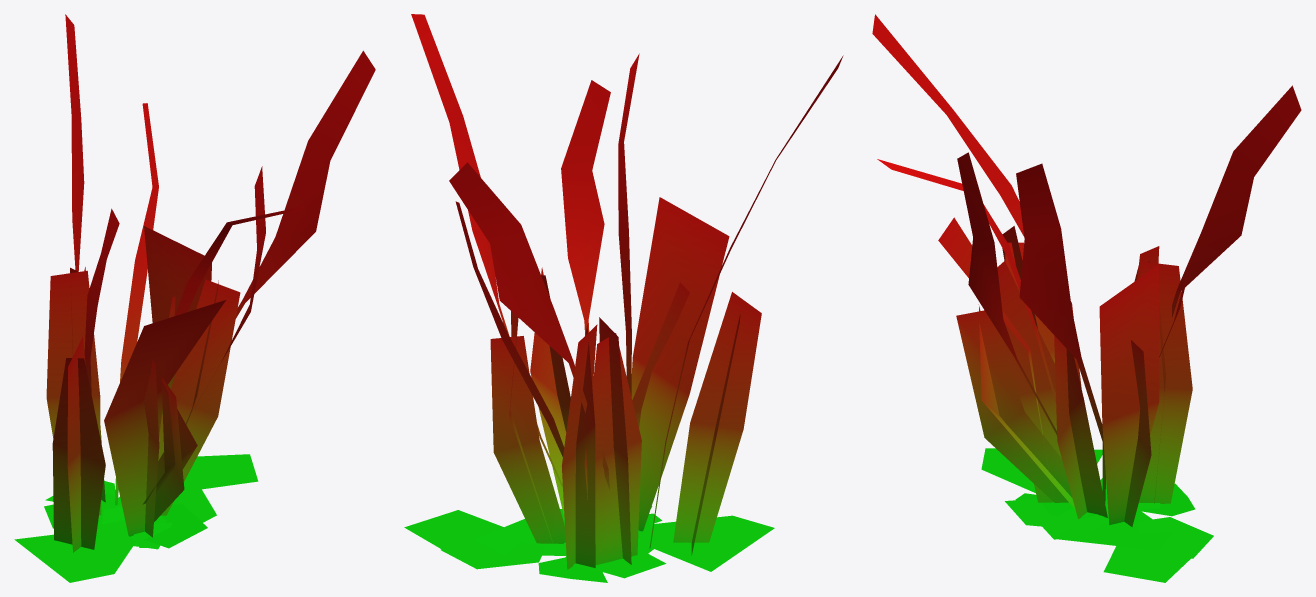
Rendered from Thatching Grass_LOD2_Var5_uddmcgbia.fbx.
3 views of the same model, side by side, from view 1: azimuth 30°, elevation 25°; view 2: azimuth 150°, elevation 25°; view 3: azimuth 270°, elevation 25° (orthographic). The views are drawn at different scales.
Visible parts, largest first — view 1: _ced9_Var5_LOD2; view 2: _ced9_Var5_LOD2; view 3: _ced9_Var5_LOD2.
Part boxes in pixels (x1,y1,x2,y2): _ced9_Var5_LOD2: (14, 14, 375, 582); _ced9_Var5_LOD2: (404, 14, 843, 582); _ced9_Var5_LOD2: (872, 14, 1301, 582).
Bounding box in the file's own units: 24.38 × 31.24 × 26.5.
